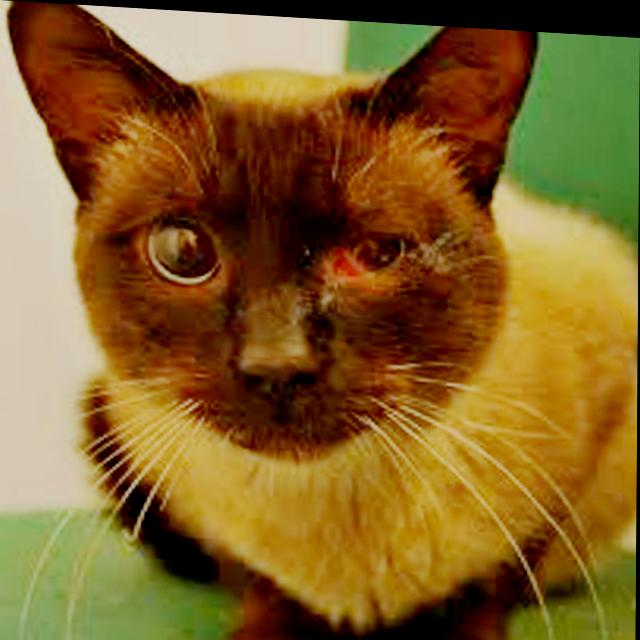eye_infection: (316, 237, 424, 292)
